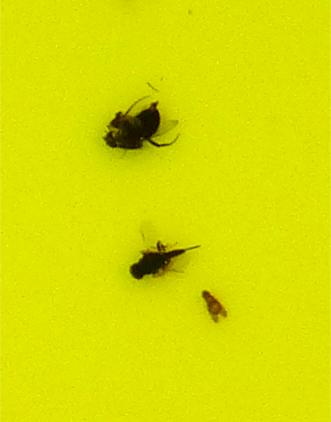Brachycera: (100, 100, 171, 160), (127, 238, 198, 284), (197, 289, 231, 322)
